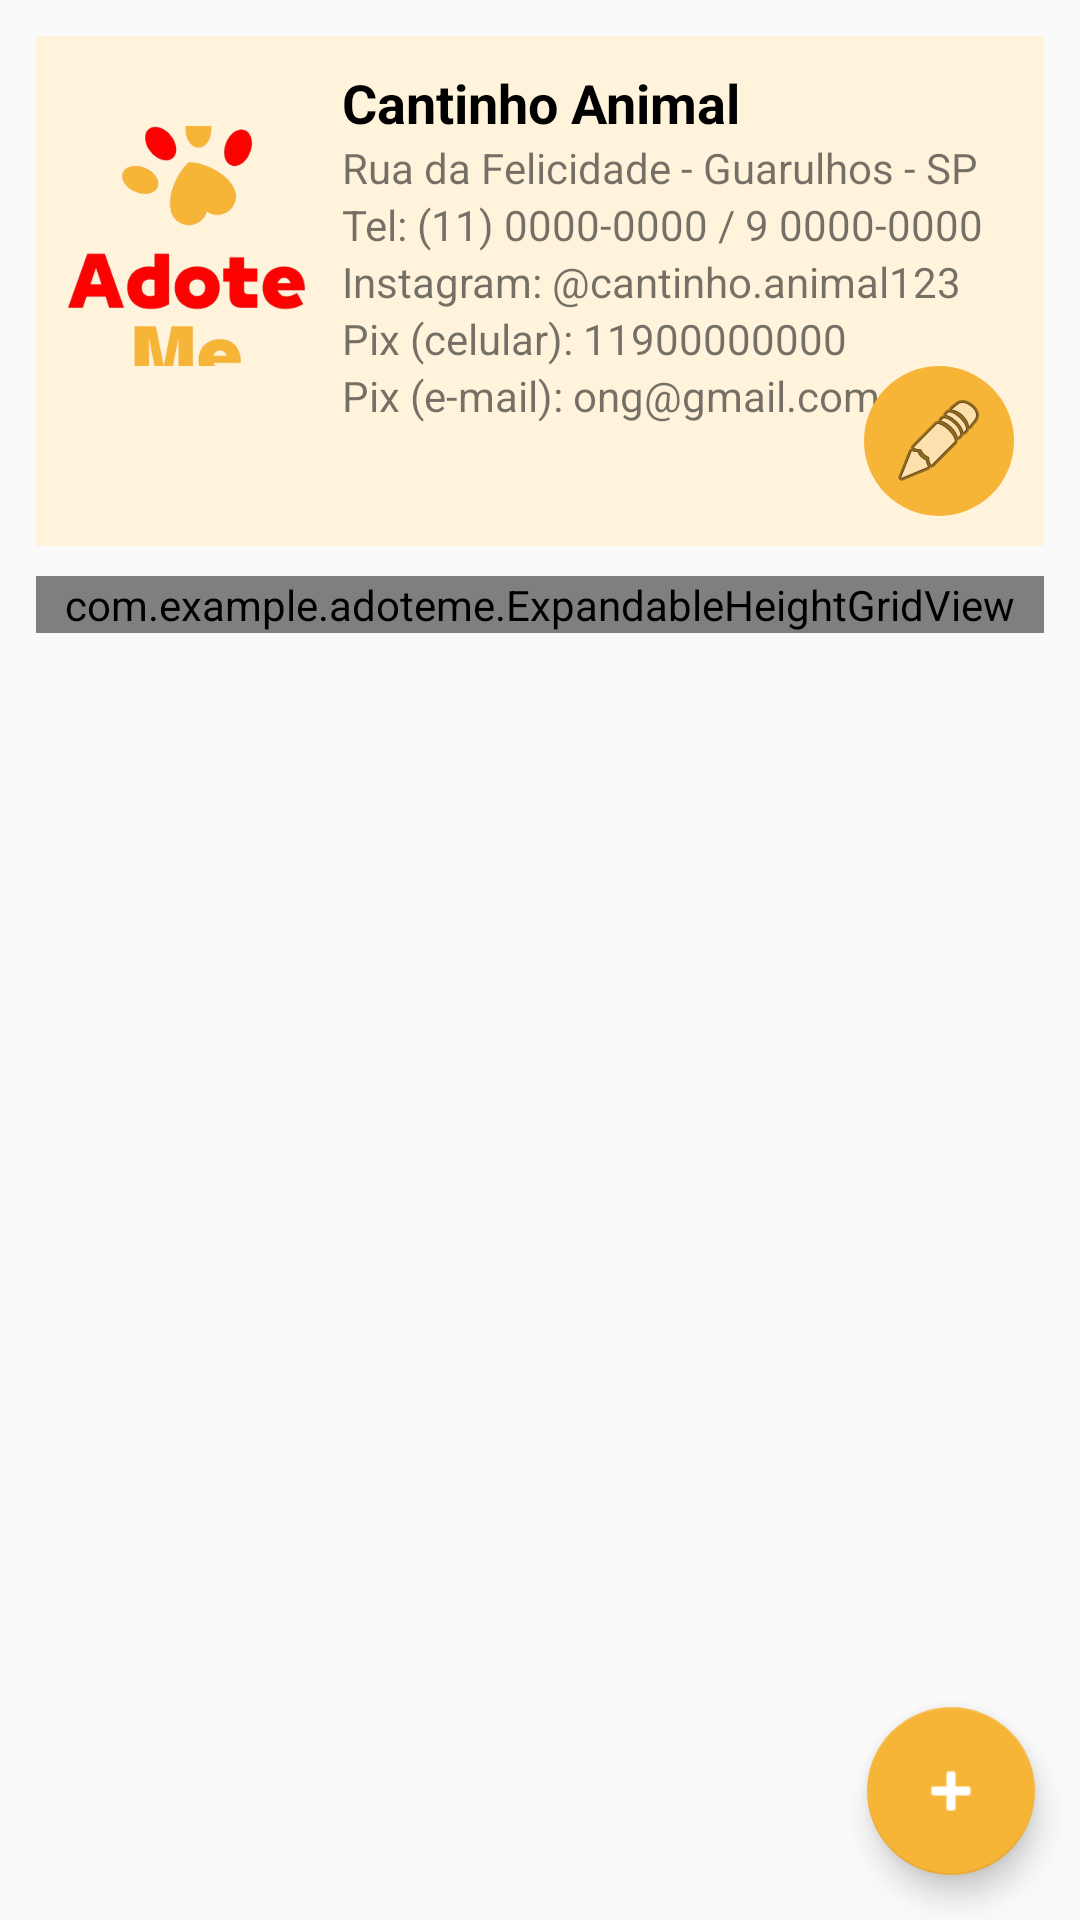

Icons on this 1080×1920 Android screen, each with the point to tap as (x,y):
Adicionar novo animal: (951,1791)
Editar informações da ONG: (939,441)
